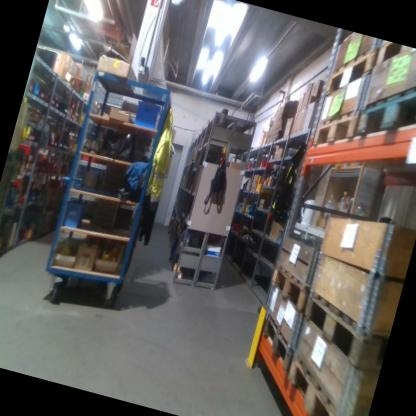pallet: (293, 289, 394, 370), (275, 350, 377, 416), (352, 65, 416, 156), (322, 36, 378, 106), (249, 311, 302, 381), (308, 98, 362, 158), (262, 262, 312, 315), (370, 40, 416, 83)
small_load_carrier: (132, 98, 163, 132), (61, 198, 83, 230)
stillage: (0, 153, 23, 241)
